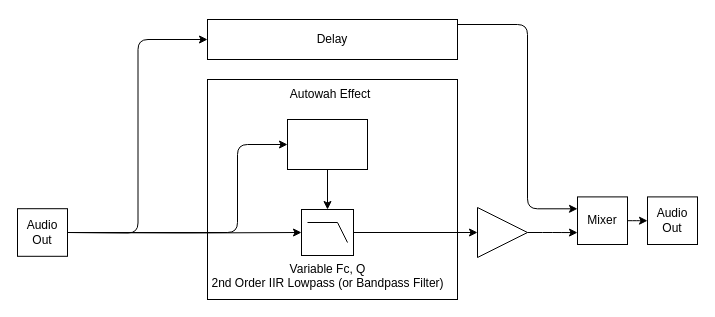
The diagram is 715 pixels wide and 317 high, and some of its shapes have lost their labels. Each missing label, with the centre of its shape:
"Envelope Filter" goes at point 327,144.
"Gain" goes at point 502,232.
